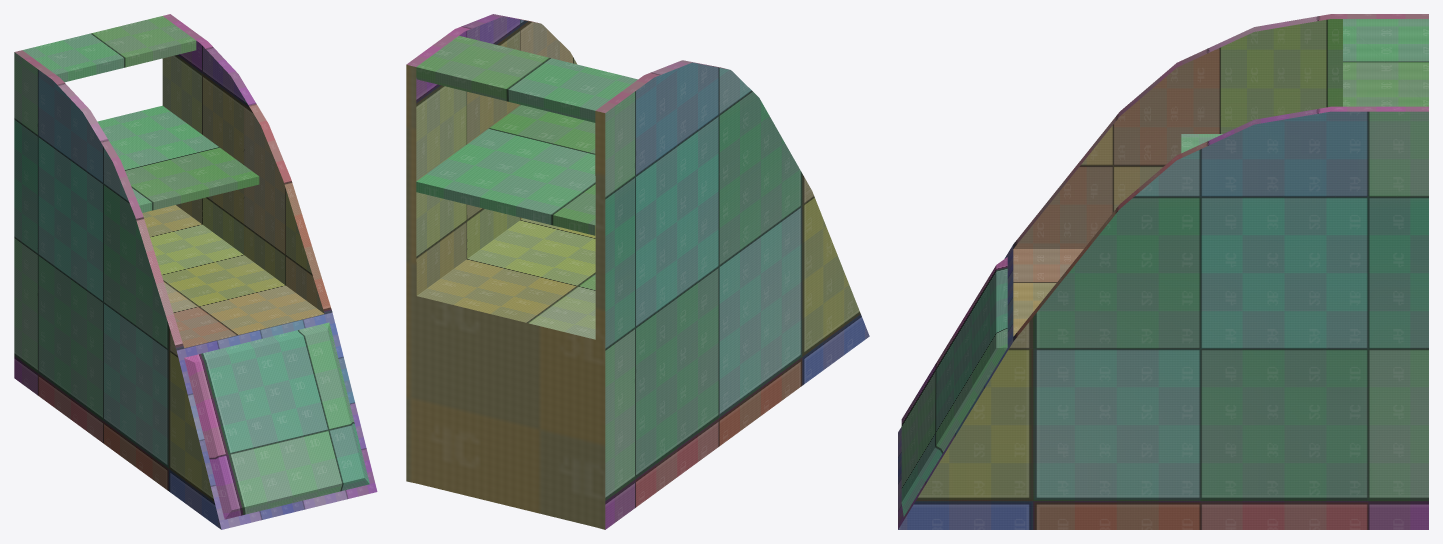
File: tile_display_case_1.glb
3 views of the same model, side by side, from view 1: azimuth 30°, elevation 25°; view 2: azimuth 150°, elevation 25°; view 3: azimuth 270°, elevation 25° (orthographic). The views are drawn at different scales.
Parts seen in each view (by area): view 1: tile_display_case; view 2: tile_display_case; view 3: tile_display_case.
Part boxes in pixels (x1,y1,x2,y2): tile_display_case: (14, 14, 377, 529); tile_display_case: (406, 14, 869, 529); tile_display_case: (898, 14, 1428, 529).
Size of the model in its own units: 1 by 2 by 2.3.
Materials: 1 (1 with a texture image).
